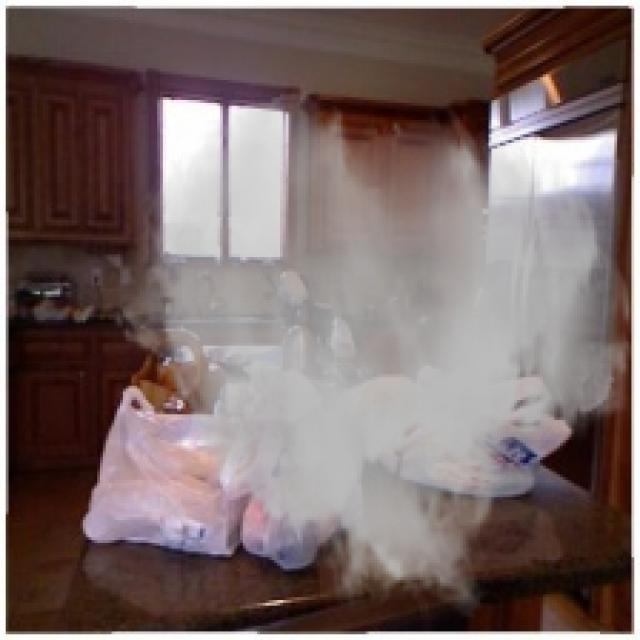Smoke: (112, 89, 638, 620)
